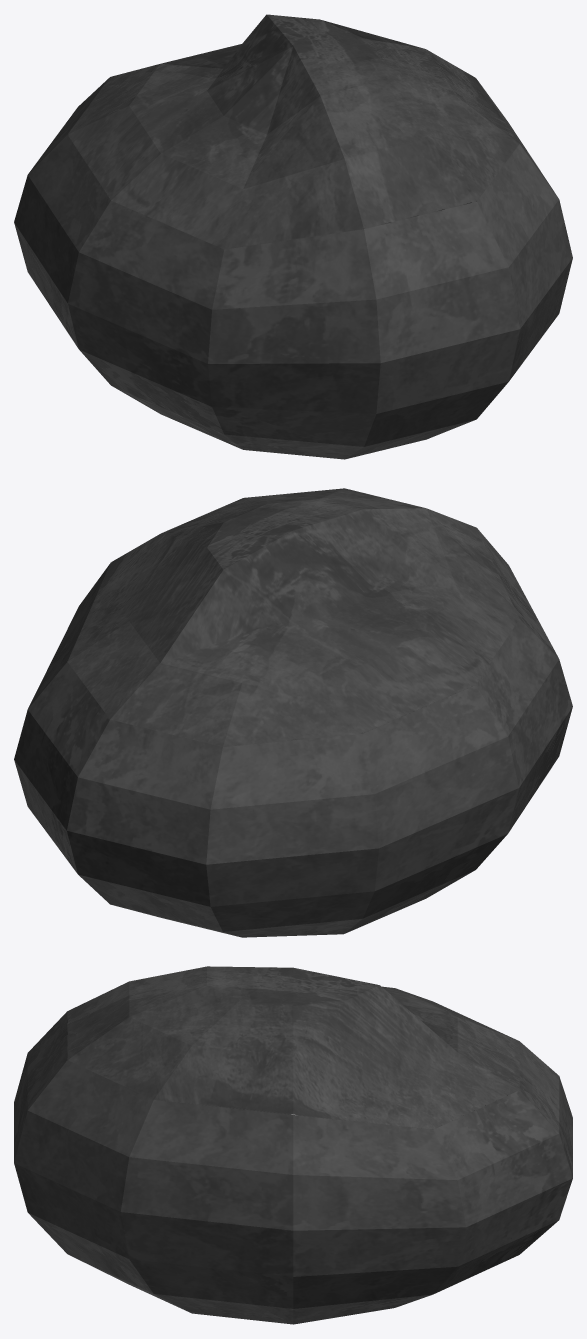
Rendered from Rock 2 Round.dae.
The picture shows the model from 3 angles, top to bottom: view 1: azimuth 30°, elevation 25°; view 2: azimuth 150°, elevation 25°; view 3: azimuth 270°, elevation 25°; orthographic projection. The views are drawn at different scales.
Parts seen in each view (by area): view 1: pSphere1; view 2: pSphere1; view 3: pSphere1.
Boxes of the visible parts, bbox=[...] form: pSphere1: bbox=[14, 14, 572, 459]; pSphere1: bbox=[14, 488, 572, 937]; pSphere1: bbox=[14, 966, 572, 1324].
Bounding box in the file's own units: 1.58 × 1.12 × 1.9.
